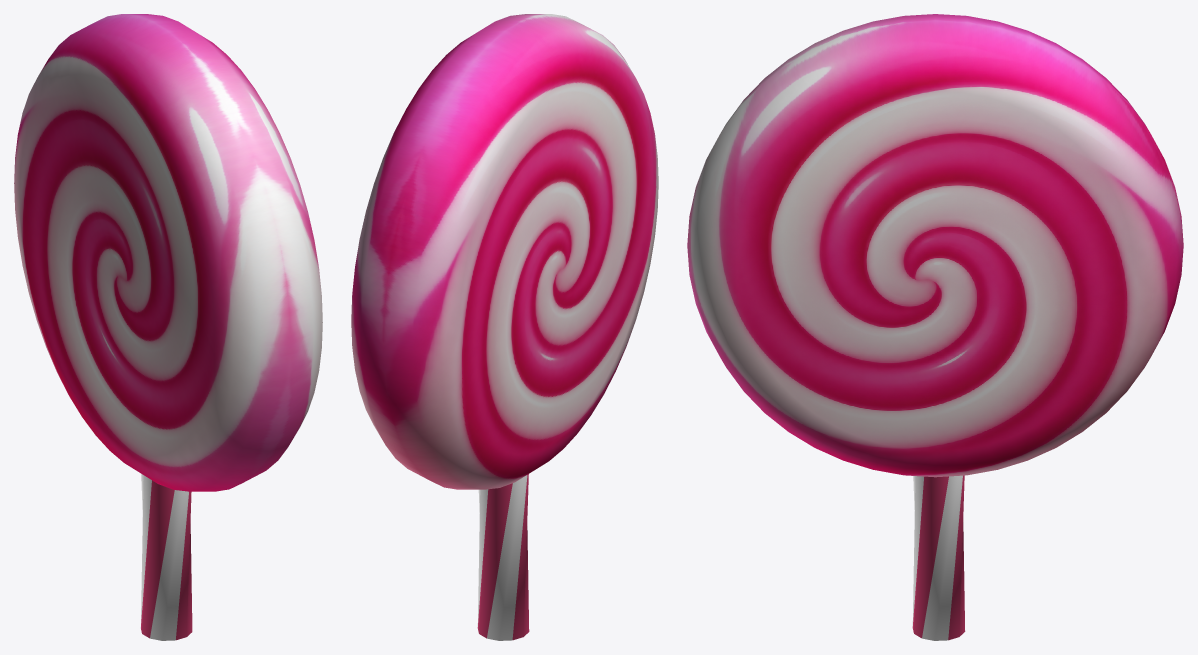
3 views of the same model, side by side, from view 1: azimuth 30°, elevation 25°; view 2: azimuth 150°, elevation 25°; view 3: azimuth 270°, elevation 25° (orthographic).
Visible parts, largest first — view 1: Cylinder.004; view 2: Cylinder.004; view 3: Cylinder.004.
Part boxes in pixels (x1,y1,x2,y2): Cylinder.004: [14, 14, 322, 640]; Cylinder.004: [351, 14, 658, 640]; Cylinder.004: [687, 14, 1183, 640].
Bounding box in the file's own units: 0.2231 × 1.25 × 0.9212.
3 materials, 1 textured.
